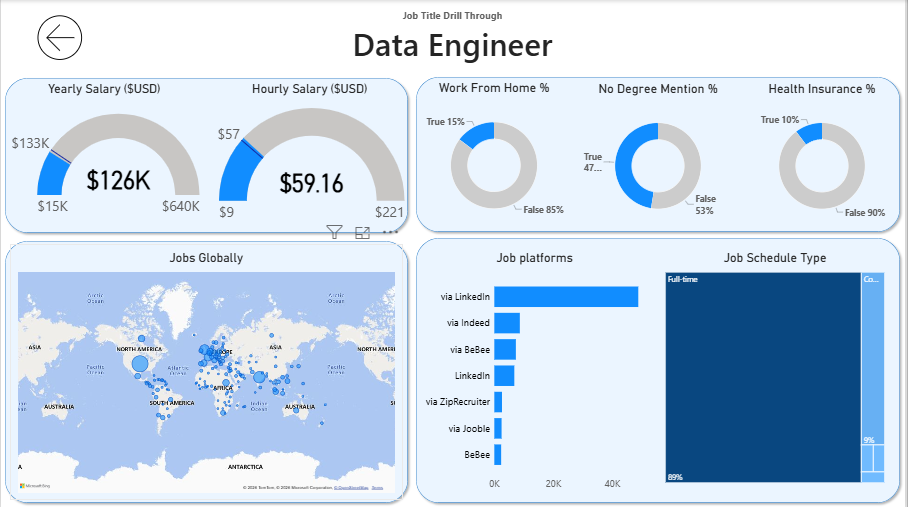

The page's visual inventory and layout, read from the dashboard file:
{"tool":"powerbi","page":{"name":"Job Title Drill Through","canvas":[1920,1080],"ordinal":1},"visuals":[{"type":"group","id":"g1","title":"Background","box":[0,155.2,1919.8,923.7],"z":0},{"type":"cardVisual","fields":{"Data":["Min(job_postings_flat.job_title_short)1"]},"box":[454.8,0,1010.4,158.7],"z":1000},{"type":"actionButton","box":[0,0,250.9,159.4],"z":2000},{"type":"shape","box":[0,157.3,873.8,346.5],"z":2000,"group":"g1"},{"type":"shape","box":[873.8,155.2,1046,346.5],"z":3000,"group":"g1"},{"type":"gauge","title":"Yearly Salary ($USD)","fields":{"MaxValue":["Max(job_postings_flat.salary_year_avg)1"],"MinValue":["Min(job_postings_flat.salary_year_avg)"],"TargetValue":["Avg(job_postings_flat.salary_year_avg)2"],"Y":["Median(job_postings_flat.salary_year_avg)"]},"box":[0,159.4,438,342.3],"z":3000},{"type":"gauge","title":"Hourly Salary ($USD)","fields":{"MaxValue":["Max(job_postings_flat.salary_hour_avg)2"],"MinValue":["Min(job_postings_flat.salary_hour_avg)3"],"TargetValue":["Avg(job_postings_flat.salary_hour_avg)1"],"Y":["Median(job_postings_flat.salary_hour_avg)"]},"box":[438,159.4,435.8,342.3],"z":4000},{"type":"shape","box":[0,504.9,873.8,574],"z":4000,"group":"g1"},{"type":"donutChart","title":"Work From Home %","fields":{"Category":["job_postings_flat.job_work_from_home"],"Y":["CountNonNull(job_postings_flat.job_work_from_home)"]},"box":[873.8,157.3,348.7,344.4],"z":5000},{"type":"shape","box":[873.8,497.1,1046,580.4],"z":5000,"group":"g1"},{"type":"donutChart","title":"No Degree Mention %","fields":{"Category":["job_postings_flat.job_no_degree_mention"],"Y":["CountNonNull(job_postings_flat.job_work_from_home)"]},"box":[1222.4,159.4,348.7,342.3],"z":6000},{"type":"donutChart","title":"Health Insurance %","fields":{"Category":["job_postings_flat.job_health_insurance"],"Y":["CountNonNull(job_postings_flat.job_work_from_home)"]},"box":[1571.1,159.4,348.7,342.3],"z":7000},{"type":"map","title":"Jobs Globally","fields":{"Category":["job_postings_flat.job_country"],"Size":["CountNonNull(job_postings_flat.job_title_short)"]},"box":[19.3,519.2,834.5,544.9],"z":8000},{"type":"treemap","title":"Job Schedule Type","fields":{"Group":["job_postings_flat.job_schedule_type"],"Values":["CountNonNull(job_postings_flat.job_schedule_type)"]},"box":[1396.6,519.2,497.7,523.4],"z":9000},{"type":"barChart","title":"Job platforms","fields":{"Category":["job_postings_flat.job_via"],"Y":["CountNonNull(job_postings_flat.job_via)"]},"box":[874.3,519.1,521.6,544.3],"z":10000}]}

Visuals, with their boxes in screenshot pixels (x1, y1, x2, y2), scaled from the page's 1920x1080 canvas onto the 908x507 screenshot:
"Background" group: l=0, t=73, r=907, b=506
cardVisual - Min(job_postings_flat.job_title_short)1: l=215, t=0, r=693, b=75
actionButton: l=0, t=0, r=119, b=75
shape: l=0, t=74, r=413, b=237
shape: l=413, t=73, r=907, b=236
"Yearly Salary ($USD)" gauge: l=0, t=75, r=207, b=236
"Hourly Salary ($USD)" gauge: l=207, t=75, r=413, b=236
shape: l=0, t=237, r=413, b=506
"Work From Home %" donutChart: l=413, t=74, r=578, b=236
shape: l=413, t=233, r=907, b=506
"No Degree Mention %" donutChart: l=578, t=75, r=743, b=236
"Health Insurance %" donutChart: l=743, t=75, r=907, b=236
"Jobs Globally" map: l=9, t=244, r=404, b=500
"Job Schedule Type" treemap: l=660, t=244, r=896, b=489
"Job platforms" barChart: l=413, t=244, r=660, b=499
